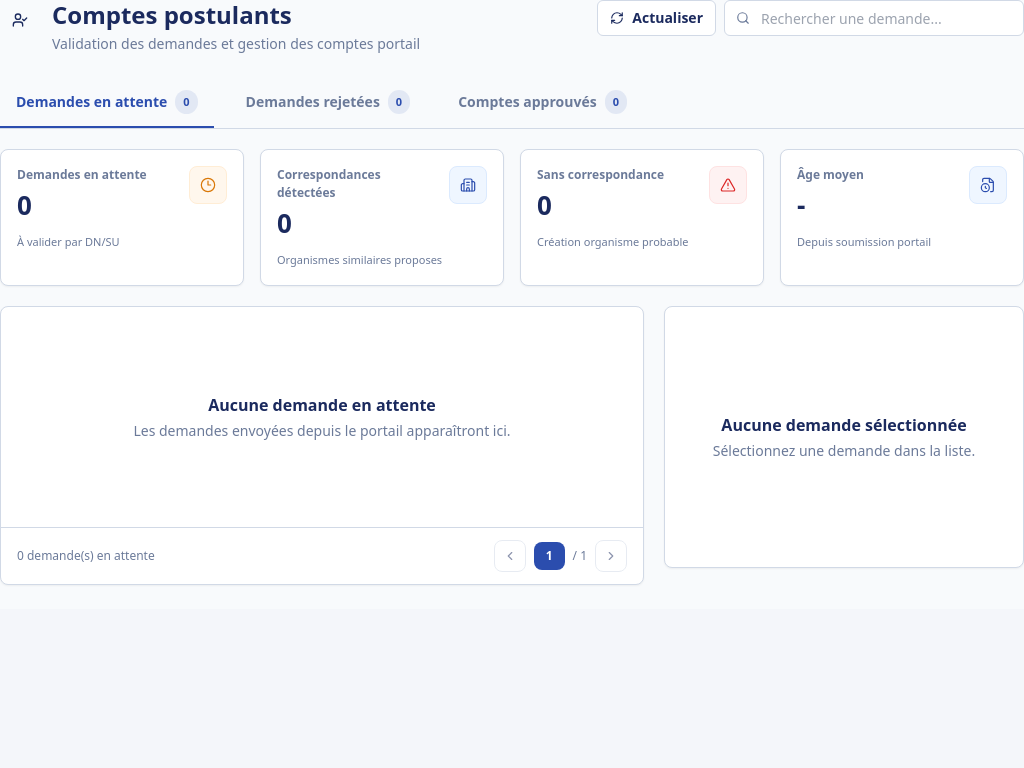
<AccountRequestsPage> rejected requests (ACCOUNT-V2) › three tabs; the rejected tab loads status=rejected with its count and metrics
This screenshot has width=1024, height=768.
Click the button "Demandes rejetées 0": (328, 103) [230,78,426,128]
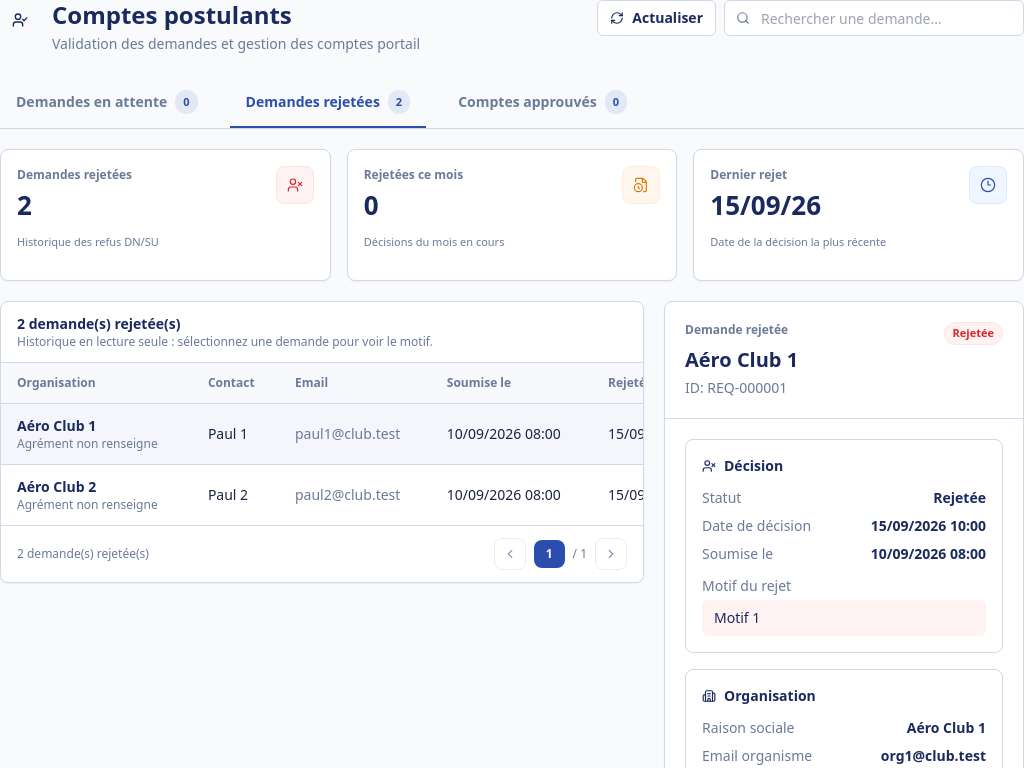
Result: the button "Demandes rejetées 2" is shown at [230,78,426,128]
Result: the text "Rejetées ce mois" is shown at [364,166,463,184]
Result: the text "Dernier rejet" is shown at [710,166,787,183]
